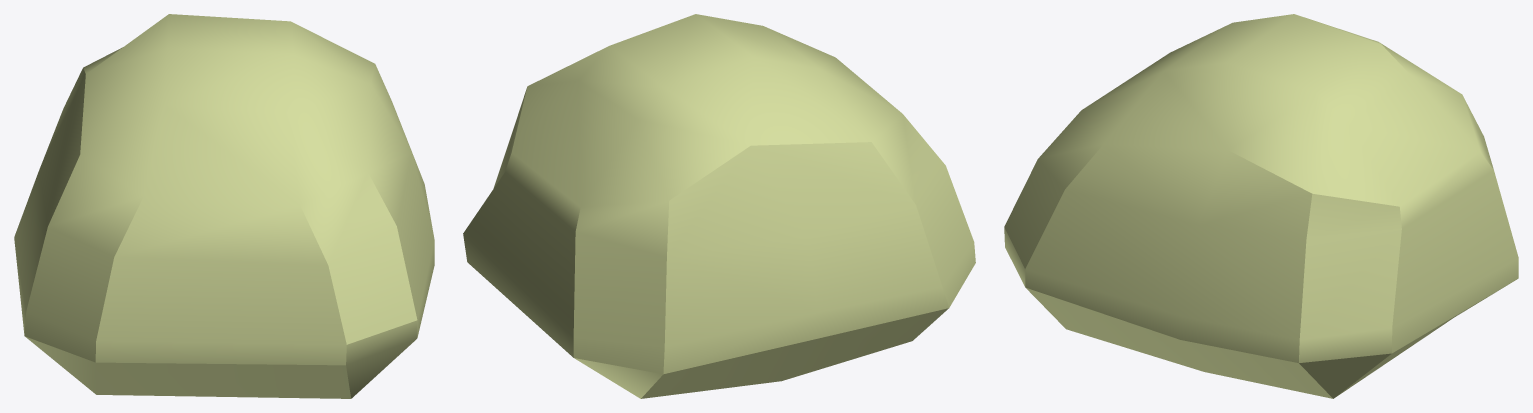
Rendered from Bush1.fbx.
3 views of the same model, side by side, from view 1: azimuth 30°, elevation 25°; view 2: azimuth 150°, elevation 25°; view 3: azimuth 270°, elevation 25° (orthographic).
Visible parts, largest first — view 1: Bush1; view 2: Bush1; view 3: Bush1.
Part boxes in pixels (x1,y1,x2,y2): Bush1: [14, 14, 434, 398]; Bush1: [463, 14, 975, 398]; Bush1: [1004, 14, 1518, 398].
Size of the model in its own units: 1.73 by 1.11 by 1.8.
